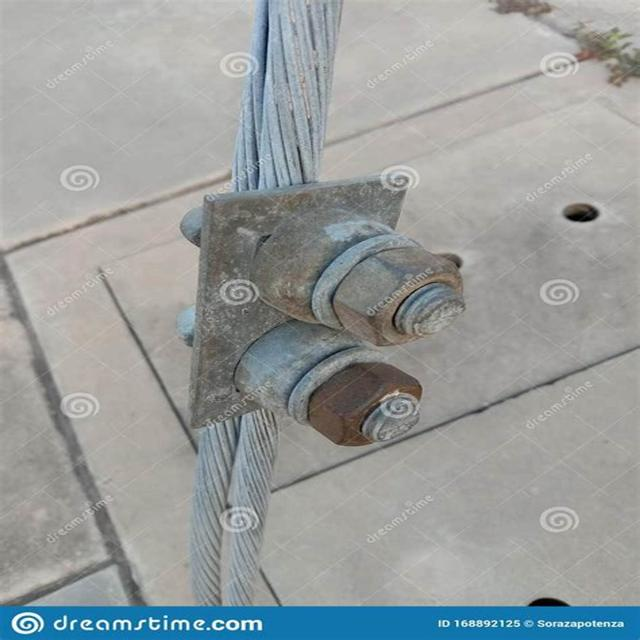bolt nut: (332, 244, 467, 347), (305, 365, 427, 449)
